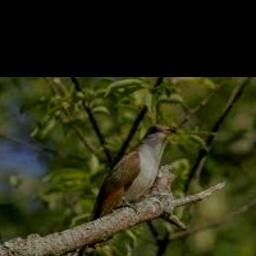Cuckoo: (56, 124, 177, 256)
